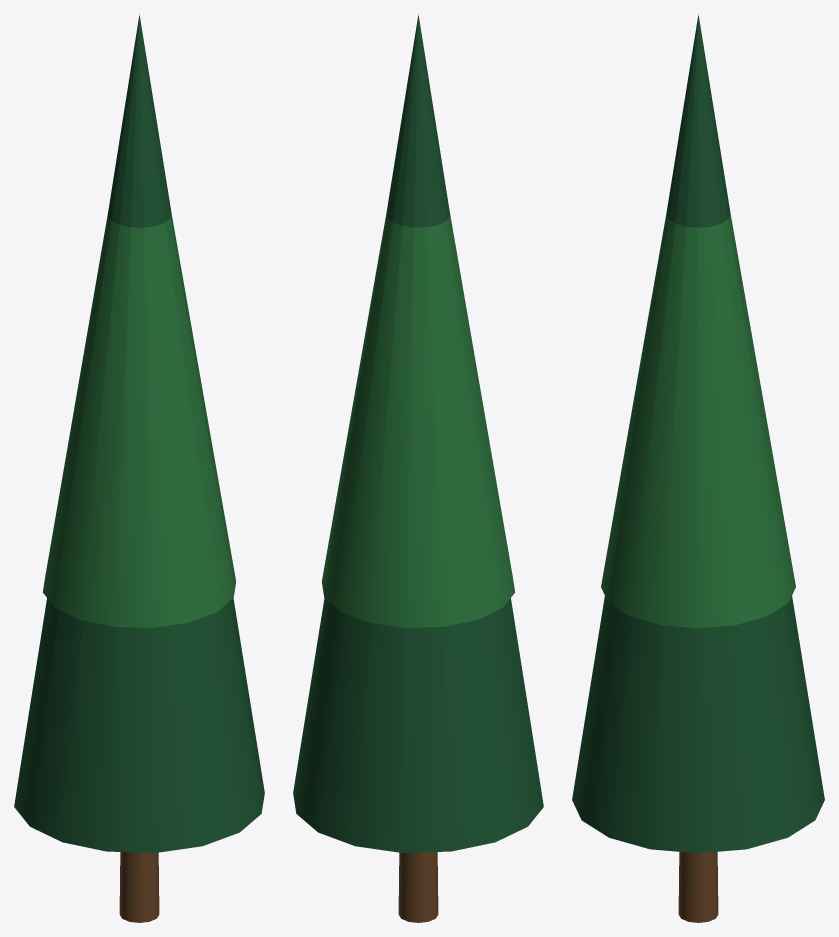
3 views of the same model, side by side, from view 1: azimuth 30°, elevation 25°; view 2: azimuth 150°, elevation 25°; view 3: azimuth 270°, elevation 25° (orthographic).
Visible parts, largest first — view 1: cypress-tree; view 2: cypress-tree; view 3: cypress-tree.
Part boxes in pixels (x1=…): cypress-tree: x1=14, y1=14, x2=264, y2=922; cypress-tree: x1=293, y1=14, x2=543, y2=922; cypress-tree: x1=572, y1=14, x2=824, y2=922.
Size of the model in its own units: 0.7 by 2.75 by 0.7.
